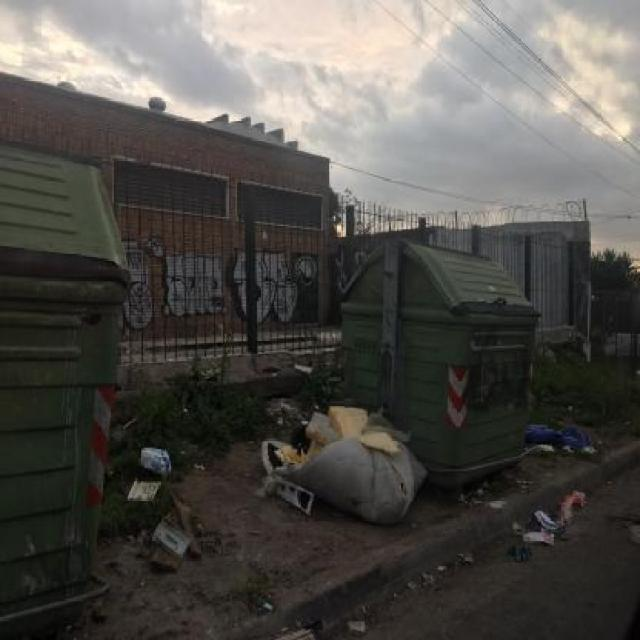garbage: (250, 386, 439, 547), (505, 403, 586, 587), (139, 425, 206, 604)
